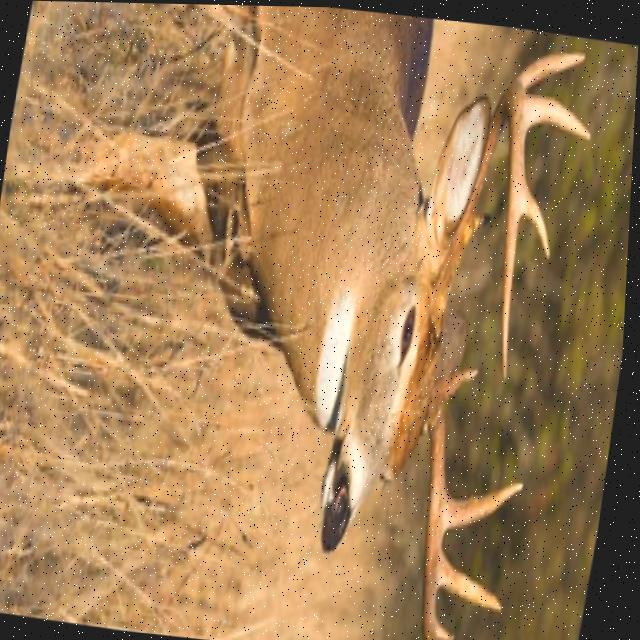L-F: (430, 72, 526, 379)
L-G1: (468, 204, 496, 244)
L-G2: (517, 47, 586, 88)
L-G3: (525, 90, 593, 140)
L-G4: (521, 170, 552, 259)
R-F: (426, 374, 462, 640)
R-G1: (446, 363, 482, 400)
R-G2: (449, 477, 528, 532)
R-G3: (443, 542, 508, 611)
